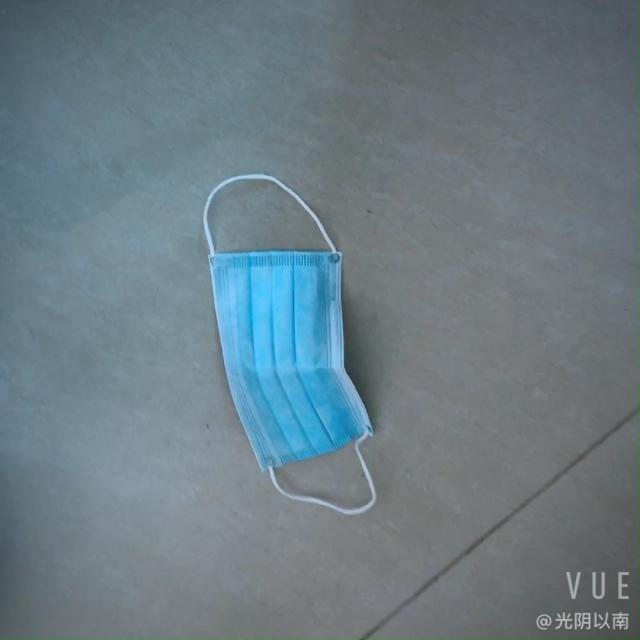non-organic waste: (204, 171, 388, 502)
